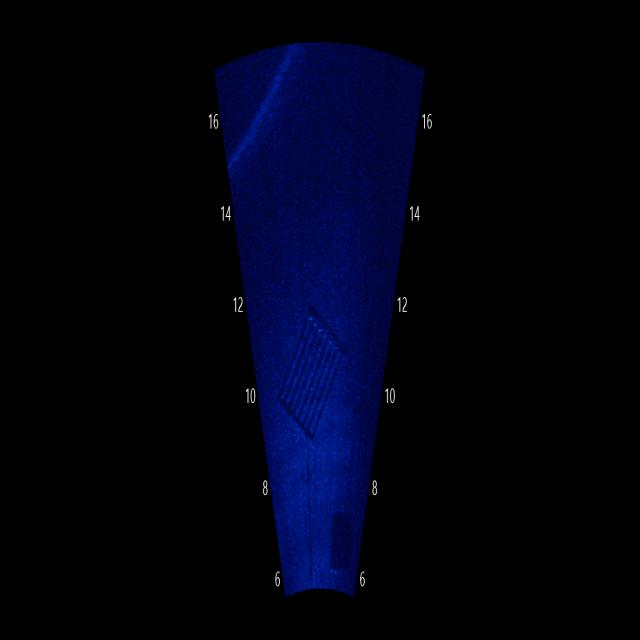square: (272, 292, 350, 446), (320, 492, 361, 586)
